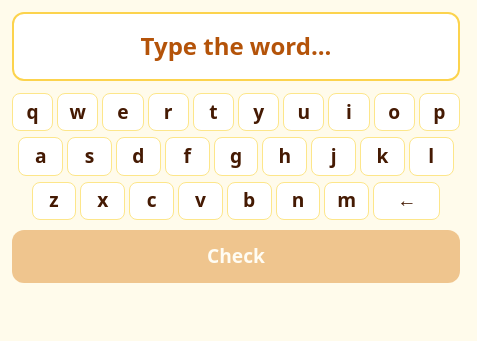
Test: SpellingInput › should show comparison view on incorrect answer
The image size is (477, 341).
Click the button "k" at (382, 156), box [360,137,405,176]
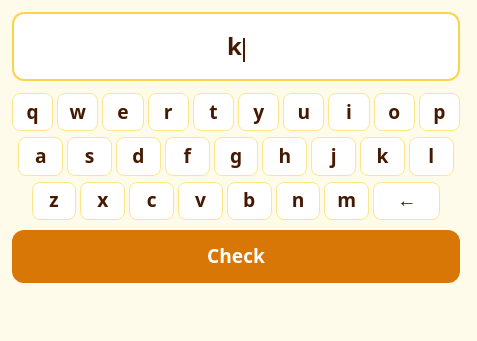
Click the button "a" at (41, 156), box [18,137,63,176]
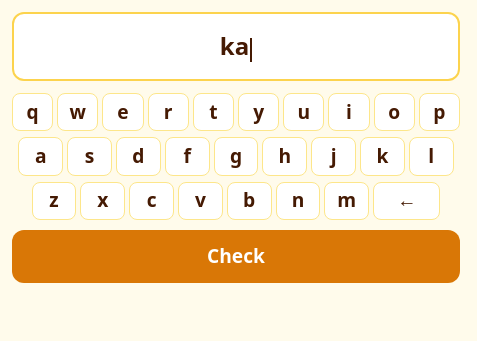
Click the button "t" at (213, 112), box [193,93,234,131]
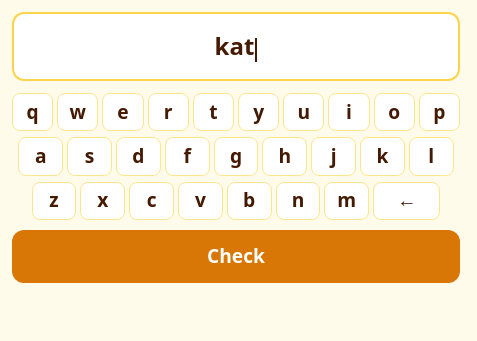
Click the button "Check" at (236, 256), box [12,230,460,283]
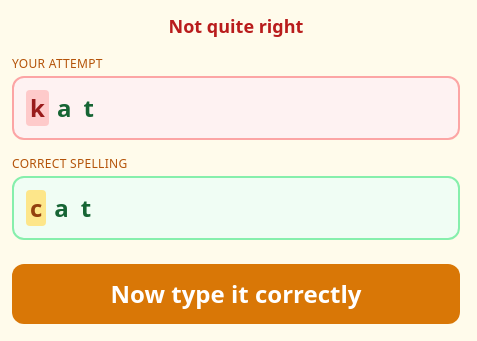
Check: the text "Not quite right" is shown, box [169,14,303,38]
Check: the text "Your attempt" is shown, box [12,55,103,72]
Check: the text "Correct spelling" is shown, box [12,155,128,172]
